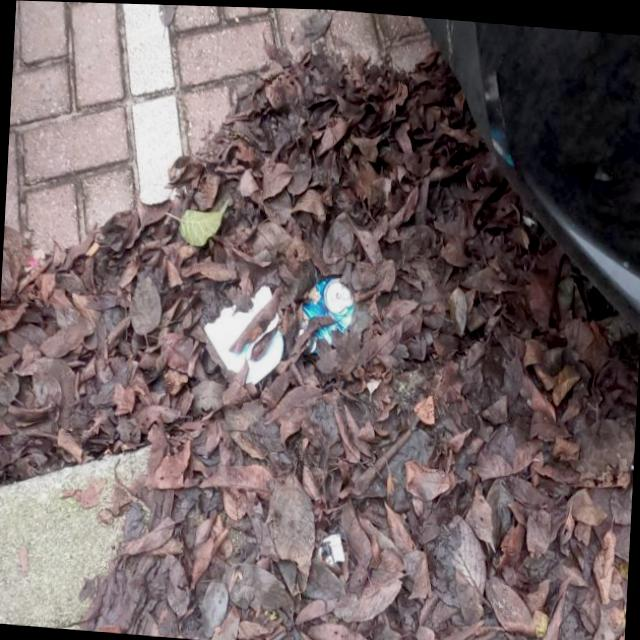Can-Metal: (292, 267, 358, 355)
Plastic: (318, 528, 348, 566)
